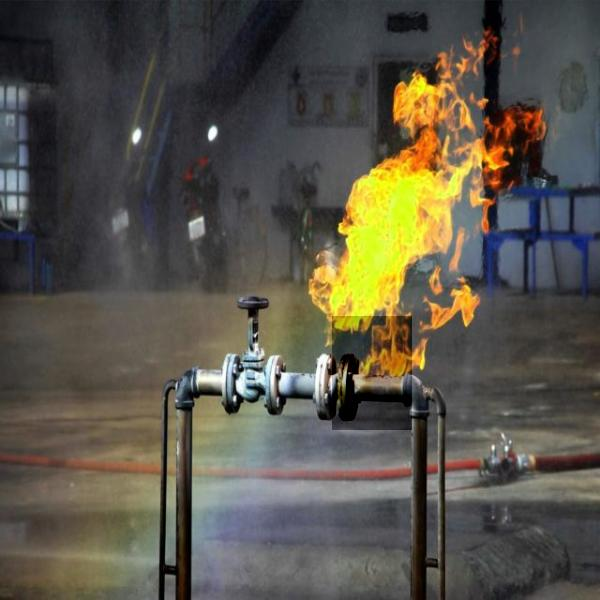leak: (332, 316, 412, 430)
